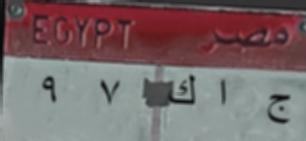7: (93, 77, 125, 108)
9: (38, 72, 64, 104)
alif: (210, 78, 233, 108)
jeem: (261, 87, 293, 135)
kaaf: (166, 73, 202, 111)
